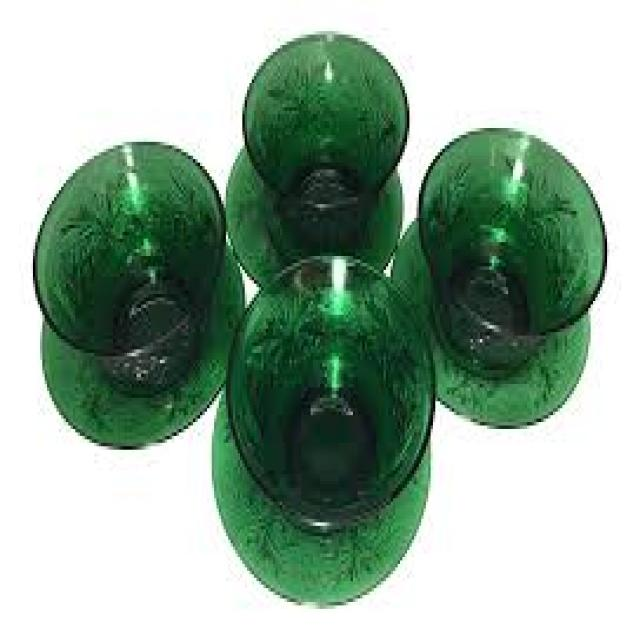glass: (226, 249, 433, 540), (212, 353, 428, 605), (417, 121, 605, 370), (31, 142, 224, 384), (388, 197, 588, 426), (40, 242, 245, 450), (240, 28, 407, 242), (224, 132, 400, 291)
